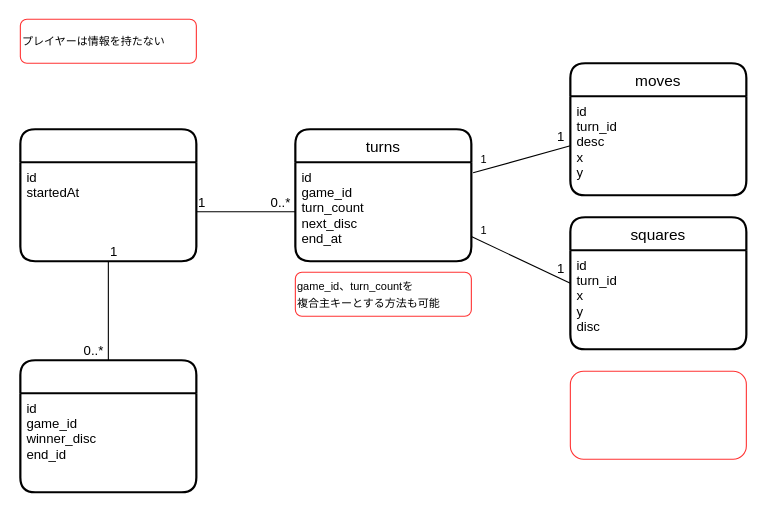
The diagram is 766 pixels wide and 513 high, and some of its shapes have lost their labels. Each missing label, with the box of its shape:
games: (19, 128, 197, 262)
games_results: (19, 359, 197, 493)
Squares(マス目情報)から 盤面と設置された石の状態を 表示する事ができる 座標：x,y 置かれている石：disc: (569, 370, 746, 459)
